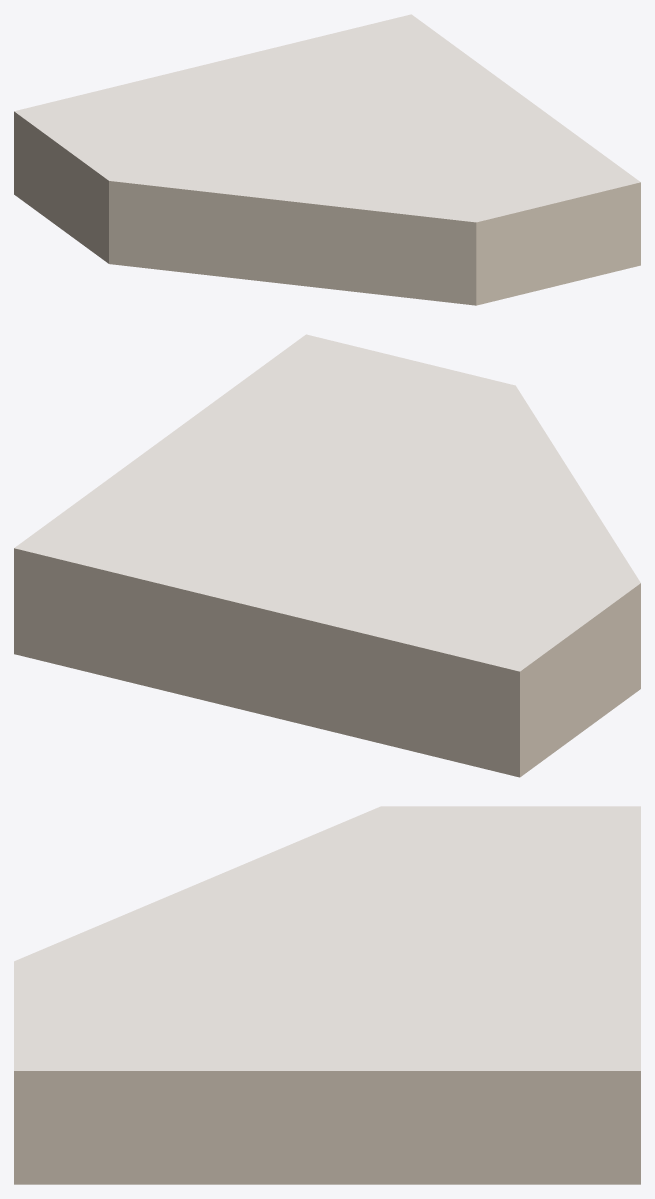
File: Floor_Curved_Small.glb
3 views of the same model, one above another, from view 1: azimuth 30°, elevation 25°; view 2: azimuth 150°, elevation 25°; view 3: azimuth 270°, elevation 25° (orthographic). The views are drawn at different scales.
Visible parts, largest first — view 1: Floor_Curved_Small; view 2: Floor_Curved_Small; view 3: Floor_Curved_Small.
Part boxes in pixels (<box>): Floor_Curved_Small: <box>14,14,640,305</box>; Floor_Curved_Small: <box>14,334,640,777</box>; Floor_Curved_Small: <box>14,806,640,1184</box>.
Size of the model in its own units: 0.45 by 0.09 by 0.45.
